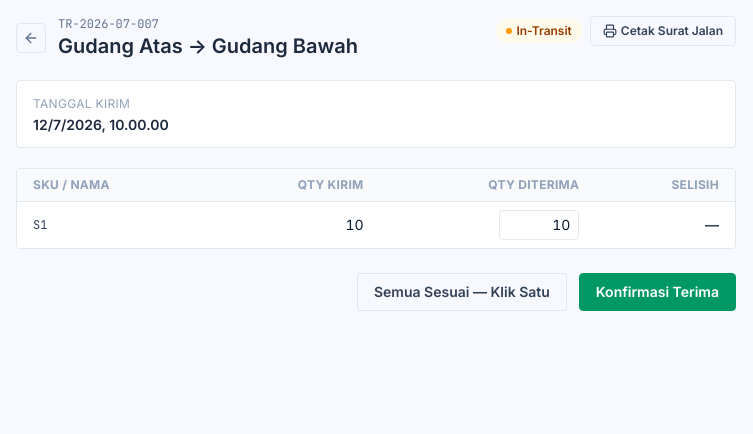
WarehouseTransferDetailScreen › warns about PARTIAL with live loss value when qty_received < qty_sent
Check: the button "Konfirmasi Terima" is shown, box [579,273,736,311]
Replace the text in the field named "Qty Diterima S1" with "8" at (539, 225), box [499,210,579,240]
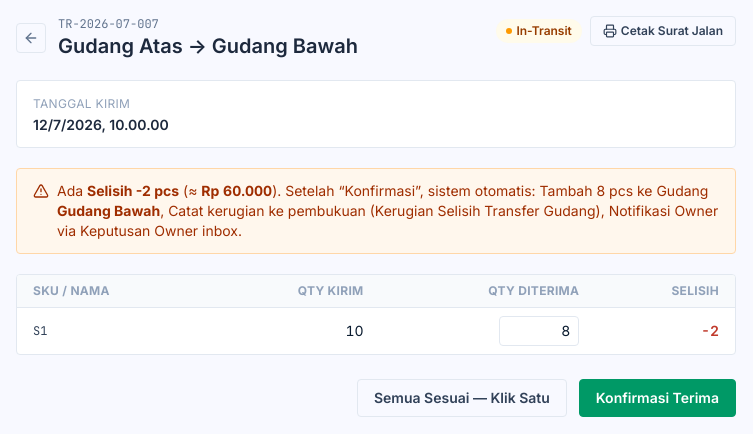
Check: the text "Selisih -2 pcs" is shown, box [87,182,179,199]
Check: the text "Rp 60.000" is shown, box [201,182,272,199]
Check: the text "Catat kerugian ke pembukuan" is shown, box [168,202,605,219]
